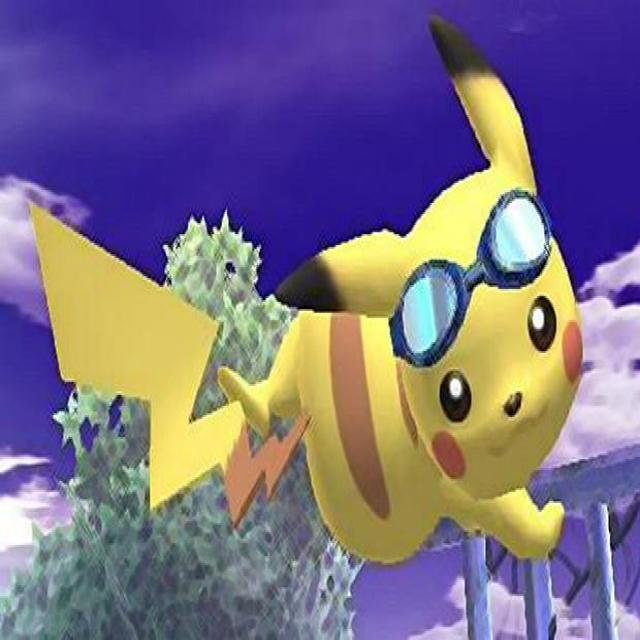pikachu: (30, 17, 583, 564)
